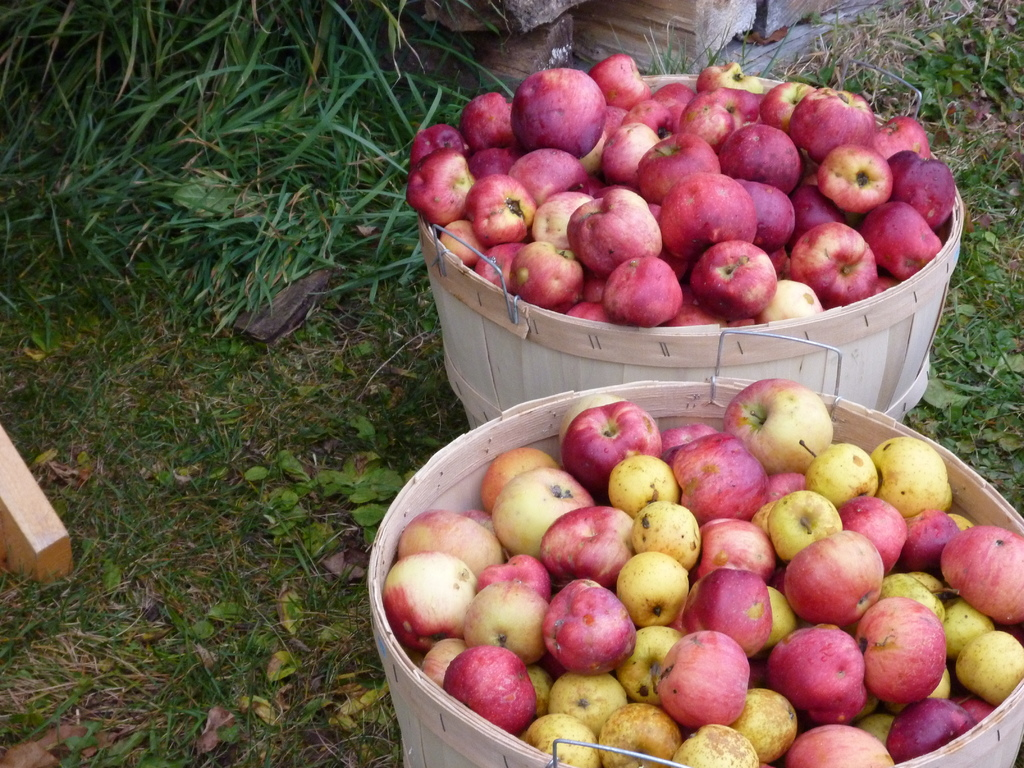Apple: (380, 378, 1023, 767), (401, 54, 954, 329), (697, 230, 789, 312)
